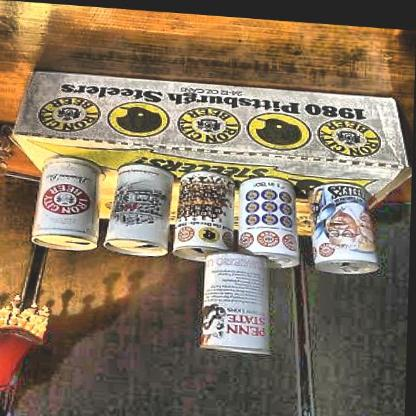Can: (199, 248, 279, 354), (102, 154, 178, 258), (307, 172, 381, 276), (231, 170, 307, 268), (32, 150, 102, 254), (170, 163, 238, 265)
